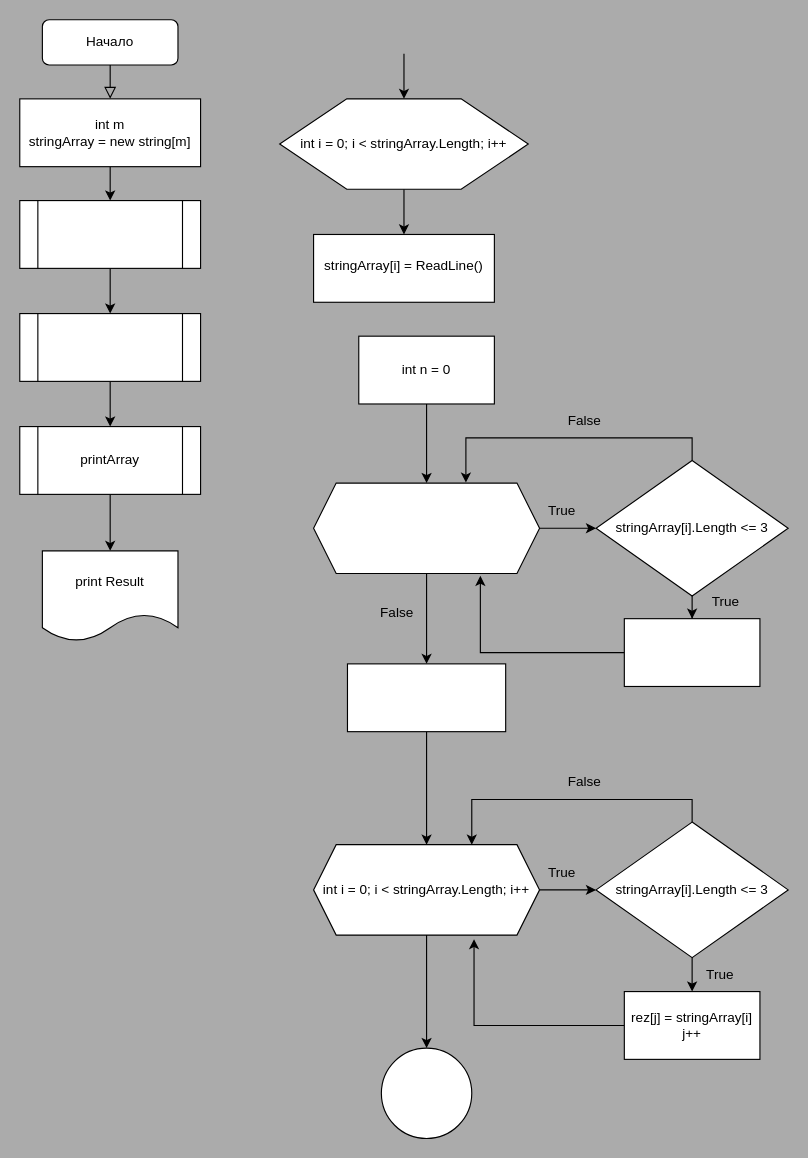
The diagram is 808 pixels wide and 1158 high, and some of its shapes have lost their labels. Each missing label, with the centre of its shape:
FindElementLength: pixel 110 346
GetArray: pixel 110 233
int = 0; i < stringArray.Length; i++: pixel 426 527
n++: pixel 691 652
return rez: pixel 426 1092
string[] rez = new string[n] int j = 0: pixel 426 697
